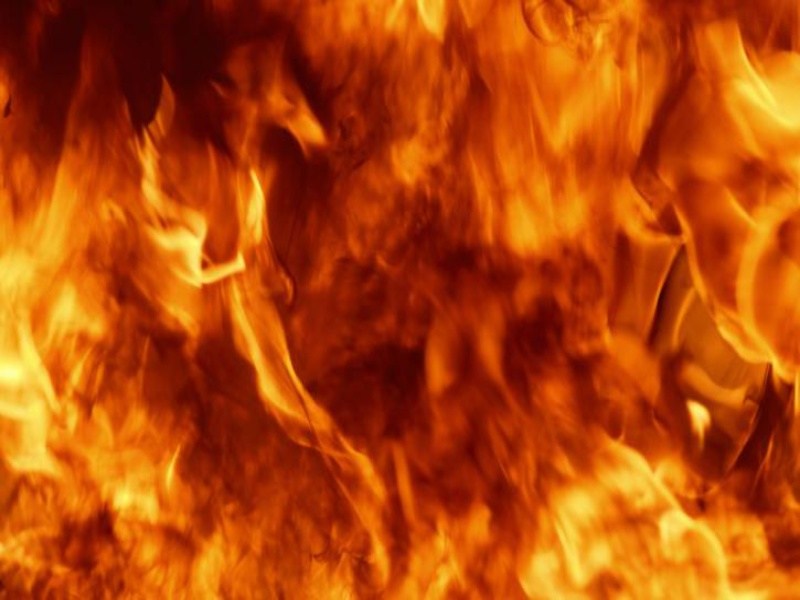fire: (1, 3, 800, 600)
